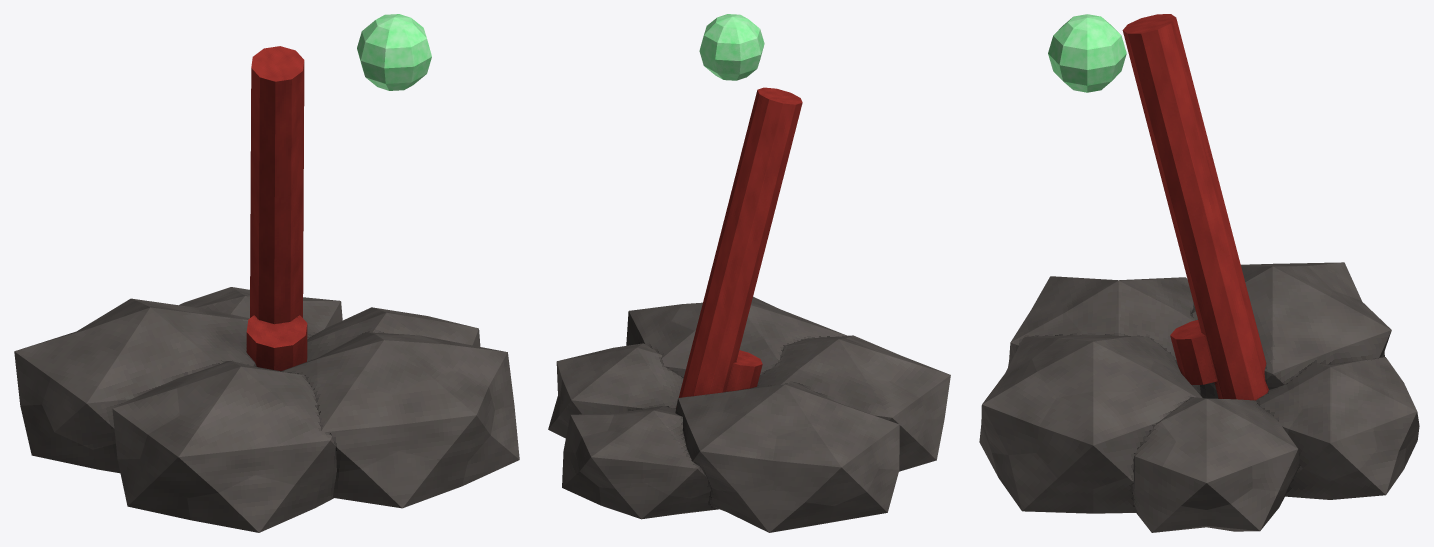
File: signal_flare.glb
3 views of the same model, side by side, from view 1: azimuth 30°, elevation 25°; view 2: azimuth 150°, elevation 25°; view 3: azimuth 270°, elevation 25° (orthographic). The views are drawn at different scales.
Parts seen in each view (by area): view 1: signal_flare; view 2: signal_flare; view 3: signal_flare.
Boxes of the visible parts, x1=… form: signal_flare: x1=14, y1=14, x2=519, y2=532; signal_flare: x1=548, y1=14, x2=950, y2=532; signal_flare: x1=979, y1=14, x2=1419, y2=532.
Bounding box in the file's own units: 0.4918 × 0.5251 × 0.4462.
Materials: 3 (3 with a texture image).
